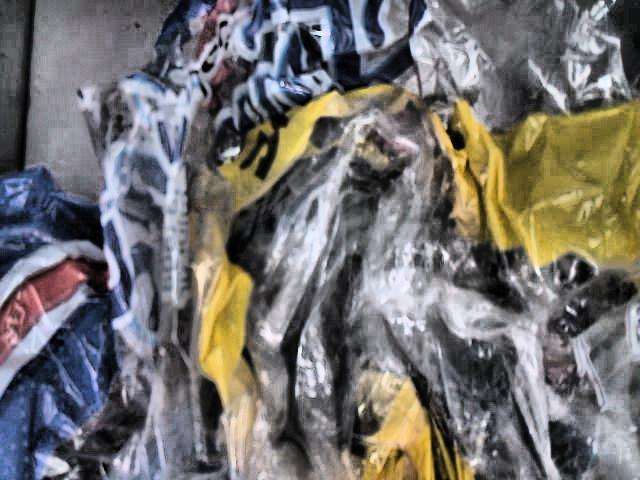Plastic: (0, 0, 640, 480)
